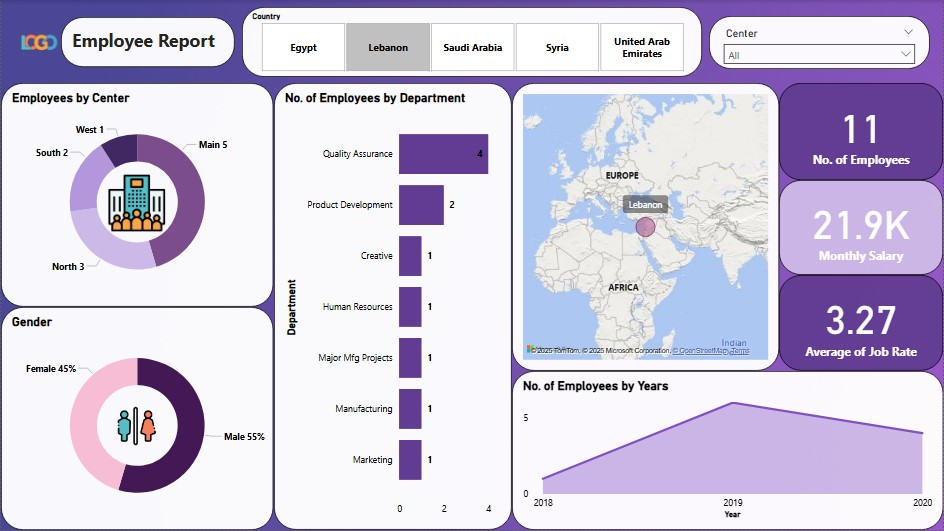

What the dashboard file says about the page in this screenshot:
{"tool":"powerbi","page":{"name":"Employees Report DashBoard","canvas":[1280,720],"ordinal":0},"visuals":[{"type":"clusteredBarChart","title":"No. of Employees by Department","fields":{"Category":["Employees.Department"],"Y":["CountNonNull(Employees.No)"]},"box":[370.2,112.9,323.4,607],"z":0},{"type":"donutChart","title":"Employees by Center","fields":{"Category":["Employees.Center"],"Y":["CountNonNull(Employees.No)"]},"box":[0,112.9,370.2,304.2],"z":1000},{"type":"donutChart","title":"Gender","fields":{"Category":["Employees.Gender"],"Y":["CountNonNull(Employees.Gender)"]},"box":[0,417,370.2,302.8],"z":2000},{"type":"map","fields":{"Category":["Employees.Country"]},"box":[694.2,112.8,362.7,391.2],"z":3000},{"type":"areaChart","title":"No. of Employees by Years","fields":{"Category":["Employees.Start Date.Variation.Date Hierarchy.Year","Employees.Start Date.Variation.Date Hierarchy.Quarter","Employees.Start Date.Variation.Date Hierarchy.Month","Employees.Start Date.Variation.Date Hierarchy.Day"],"Y":["CountNonNull(Employees.No)"]},"box":[694.2,504,585.5,216],"z":4000},{"type":"card","fields":{"Values":["CountNonNull(Employees.No)"]},"box":[1056.9,112.8,222.8,131.8],"z":5000},{"type":"card","fields":{"Values":["Sum(Employees.Monthly Salary)"]},"box":[1056.9,244.5,222.8,129.1],"z":6000},{"type":"card","fields":{"Values":["Avg(Employees.Job Rate)"]},"box":[1056.9,373.6,222.8,130.4],"z":7000},{"type":"slicer","fields":{"Values":["Employees.Country"]},"box":[327.6,9.6,624.9,95],"z":8000},{"type":"slicer","fields":{"Values":["Employees.Center"]},"box":[962.1,22,300,71.6],"z":9000},{"type":"textbox","box":[81.5,23.1,236.4,67.9],"z":10000},{"type":"image","box":[12.4,39.9,78.5,35.8],"z":11000},{"type":"image","box":[153.5,544.8,62.5,67.9],"z":12000},{"type":"image","box":[125,232.3,118.2,86.9],"z":13000}]}

Visuals, with their boxes in screenshot pixels (x1, y1, x2, y2), scaled from the page's 1280x720 canvas onto the 944x531 screenshot:
"No. of Employees by Department" clusteredBarChart: (273, 83, 512, 530)
"Employees by Center" donutChart: (0, 83, 273, 308)
"Gender" donutChart: (0, 308, 273, 530)
map - Employees.Country: (512, 83, 779, 372)
"No. of Employees by Years" areaChart: (512, 372, 943, 530)
card - CountNonNull(Employees.No): (779, 83, 943, 180)
card - Sum(Employees.Monthly Salary): (779, 180, 943, 276)
card - Avg(Employees.Job Rate): (779, 276, 943, 372)
slicer - Employees.Country: (242, 7, 702, 77)
slicer - Employees.Center: (710, 16, 931, 69)
textbox: (60, 17, 234, 67)
image: (9, 29, 67, 56)
image: (113, 402, 159, 452)
image: (92, 171, 179, 235)
